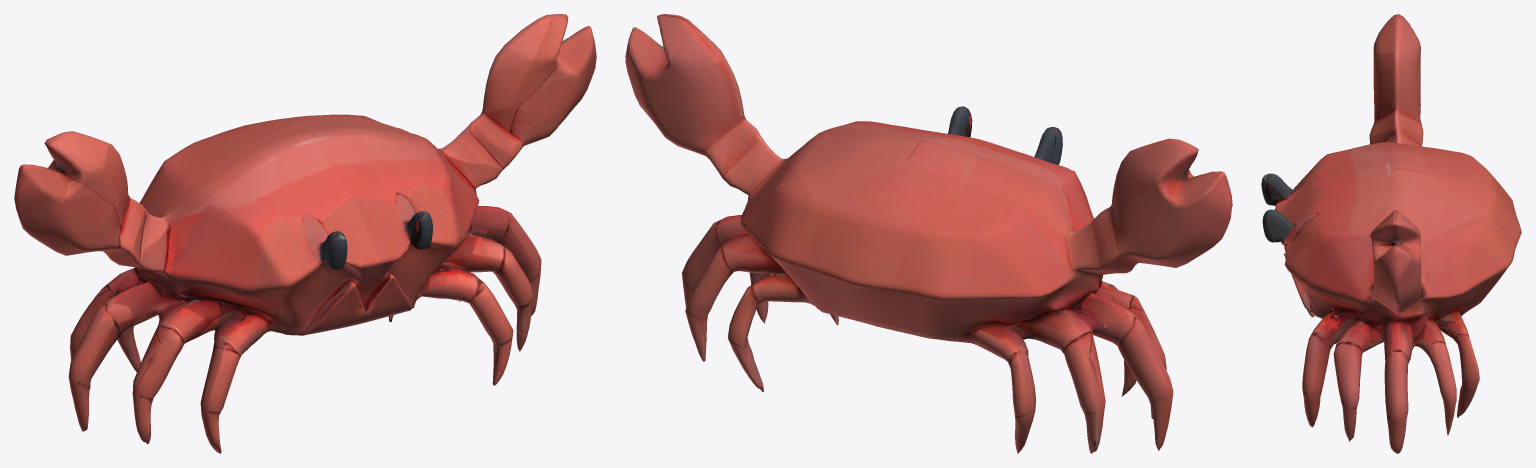
The model's file is seacrab.glb.
3 views of the same model, side by side, from view 1: azimuth 30°, elevation 25°; view 2: azimuth 150°, elevation 25°; view 3: azimuth 270°, elevation 25° (orthographic). The views are drawn at different scales.
Bounding box in the file's own units: 2 × 1.02 × 0.93.
Materials: 1 (1 with a texture image).
